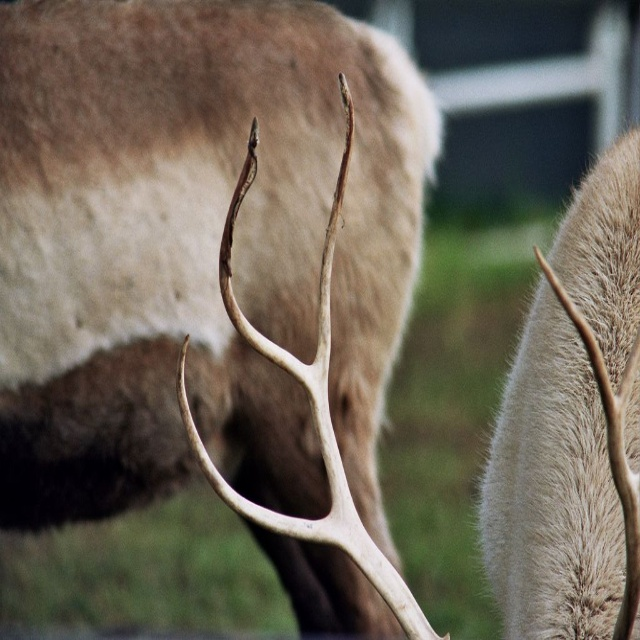Deer: (0, 0, 446, 639), (175, 72, 640, 639)
